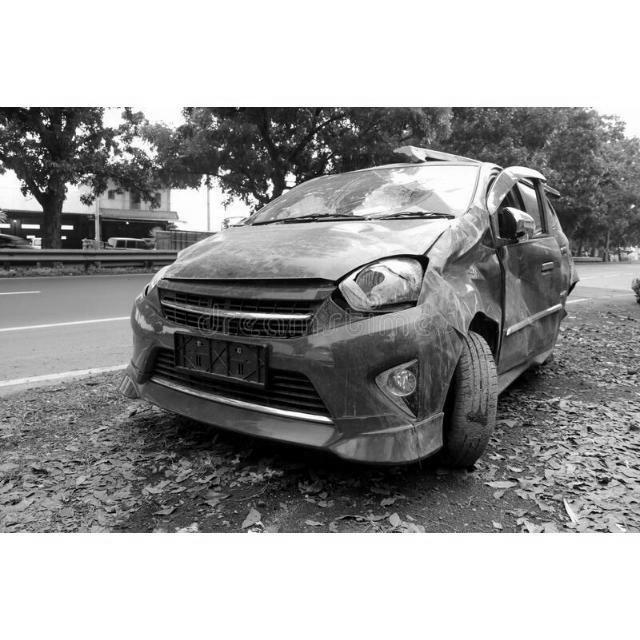doorouter-dent: (503, 242, 561, 366)
fender-dent: (421, 218, 499, 330)
